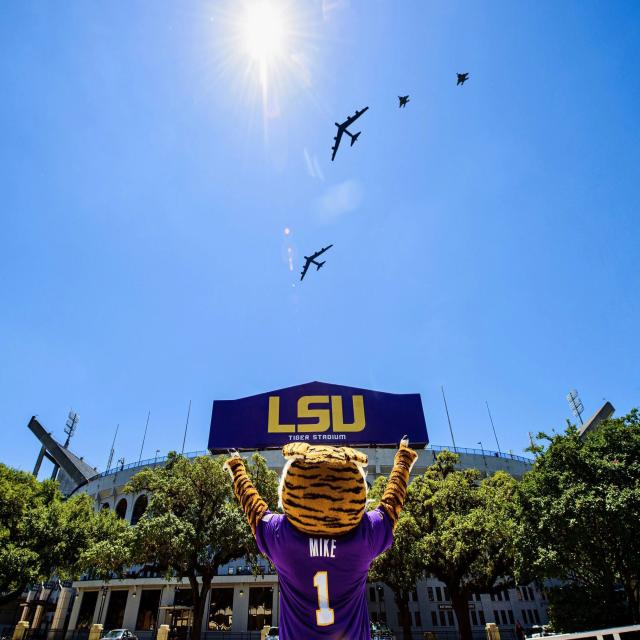MIL_Plane: (312, 106, 350, 162), (108, 52, 142, 89), (456, 72, 469, 86), (397, 95, 410, 108)
